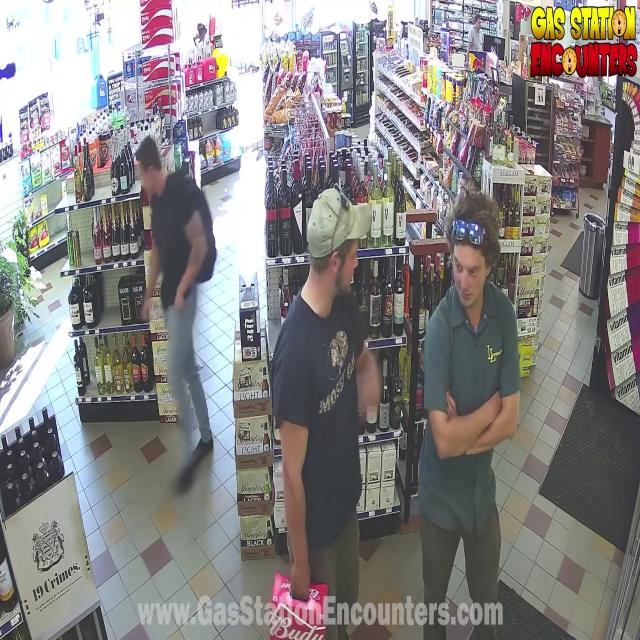Product: (259, 557, 332, 638)
normal: (402, 178, 548, 640), (139, 88, 247, 474)
shoplifting: (258, 170, 395, 640)
